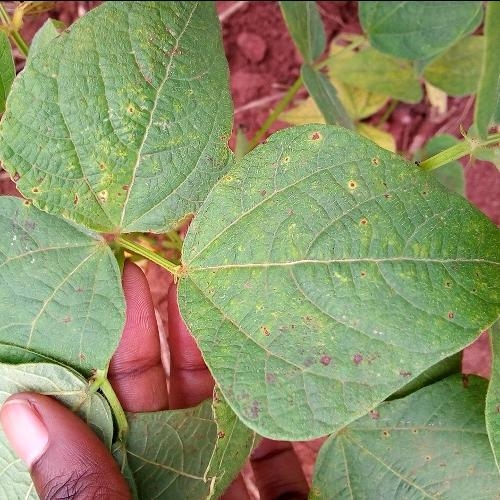hawar: (232, 111, 473, 436), (28, 34, 216, 236)
